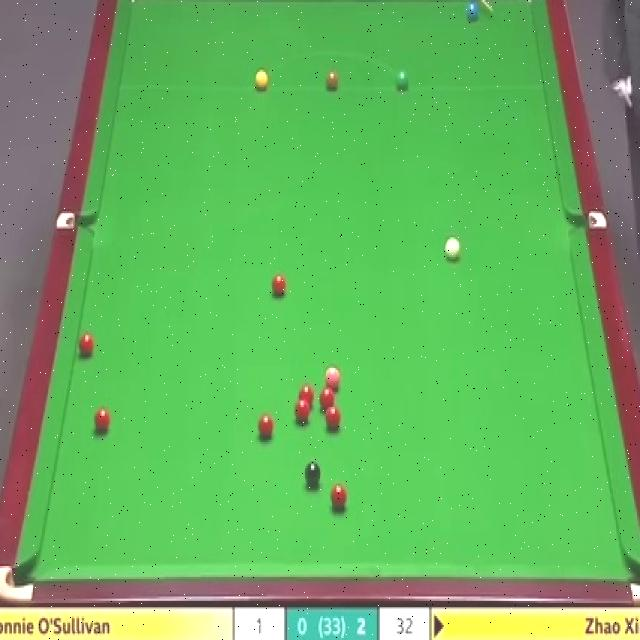black-ball: (304, 459, 323, 491)
blue-ball: (464, 0, 480, 22)
brown-ball: (325, 70, 340, 92)
green-ball: (395, 70, 410, 93)
pink-ball: (322, 364, 342, 391)
red-ball: (93, 406, 112, 436), (330, 485, 350, 512), (293, 399, 311, 425), (77, 332, 94, 359), (258, 413, 274, 441), (271, 272, 288, 298), (325, 404, 341, 430), (297, 384, 315, 407), (318, 388, 336, 409)
white-ball: (444, 234, 462, 262)
yellow-ball: (255, 69, 269, 92)
